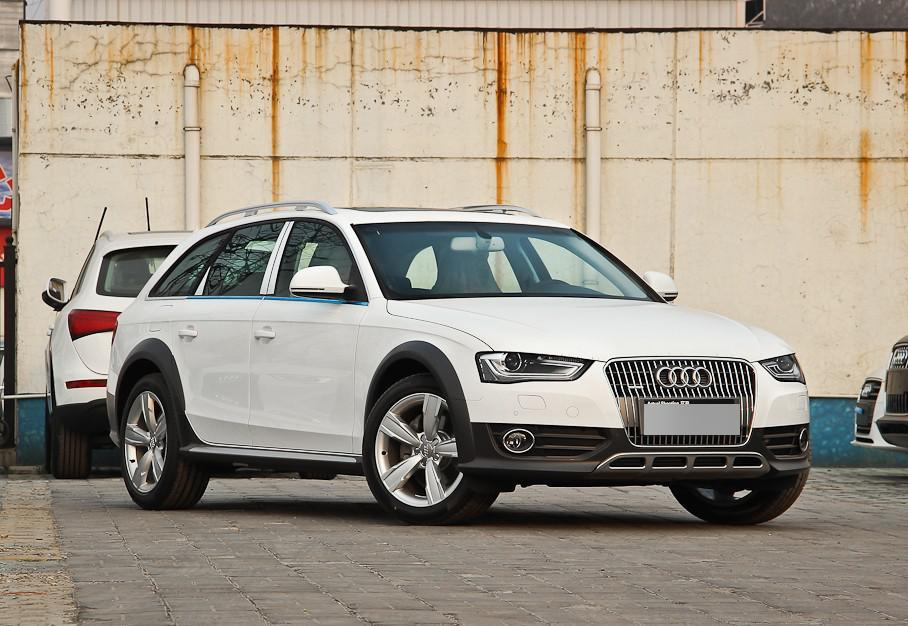Wagon: (105, 202, 811, 528)
